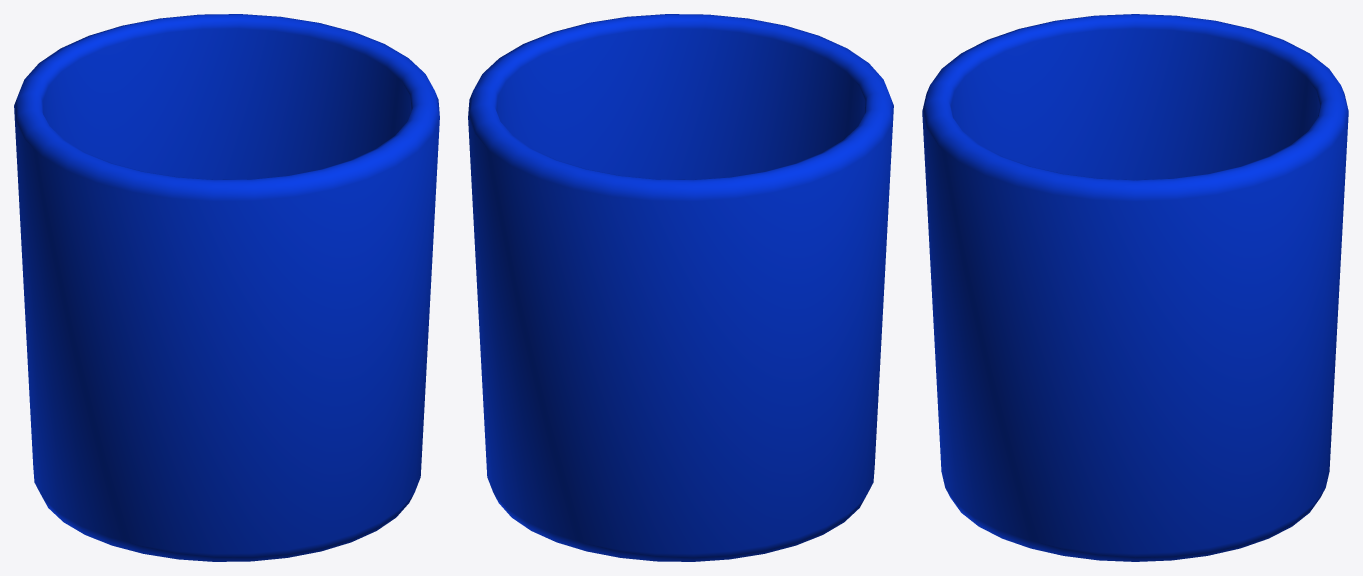
File: GlassBlue.fbx
3 renders of one model, left to right at view 1: azimuth 30°, elevation 25°; view 2: azimuth 150°, elevation 25°; view 3: azimuth 270°, elevation 25°, orthographic.
Parts seen in each view (by area): view 1: Cylinder; view 2: Cylinder; view 3: Cylinder.
Part boxes in pixels (x1=…): Cylinder: x1=14, y1=14, x2=439, y2=561; Cylinder: x1=468, y1=14, x2=893, y2=561; Cylinder: x1=922, y1=14, x2=1348, y2=561.
Size of the model in its own units: 199 by 200 by 199.
